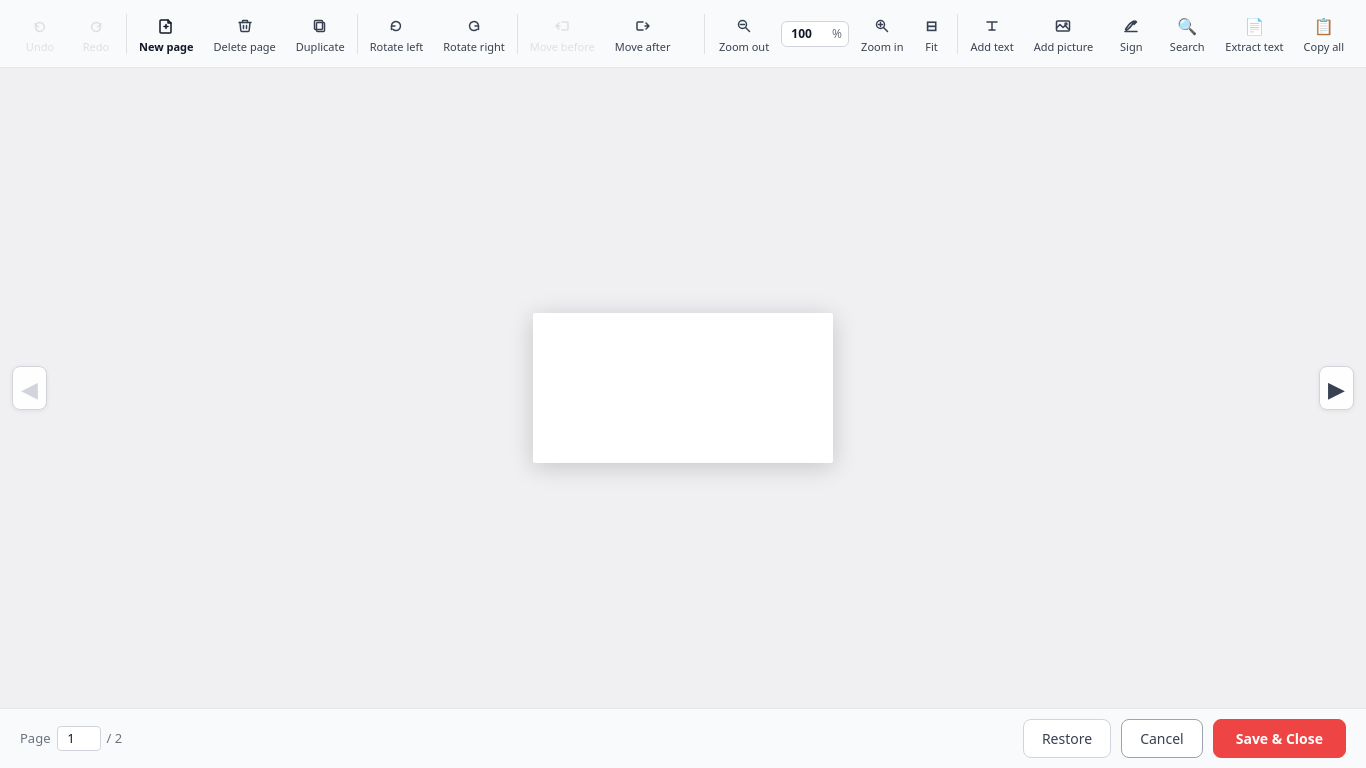
Test: PageEditModal — text layer integration › shows the scanned-PDF info banner when selecting on a text-less page
Expected: the text "no selectable text" is not shown
Press the mouse on the element with test id "page-surface" at (683, 388), box [533,313,833,463]
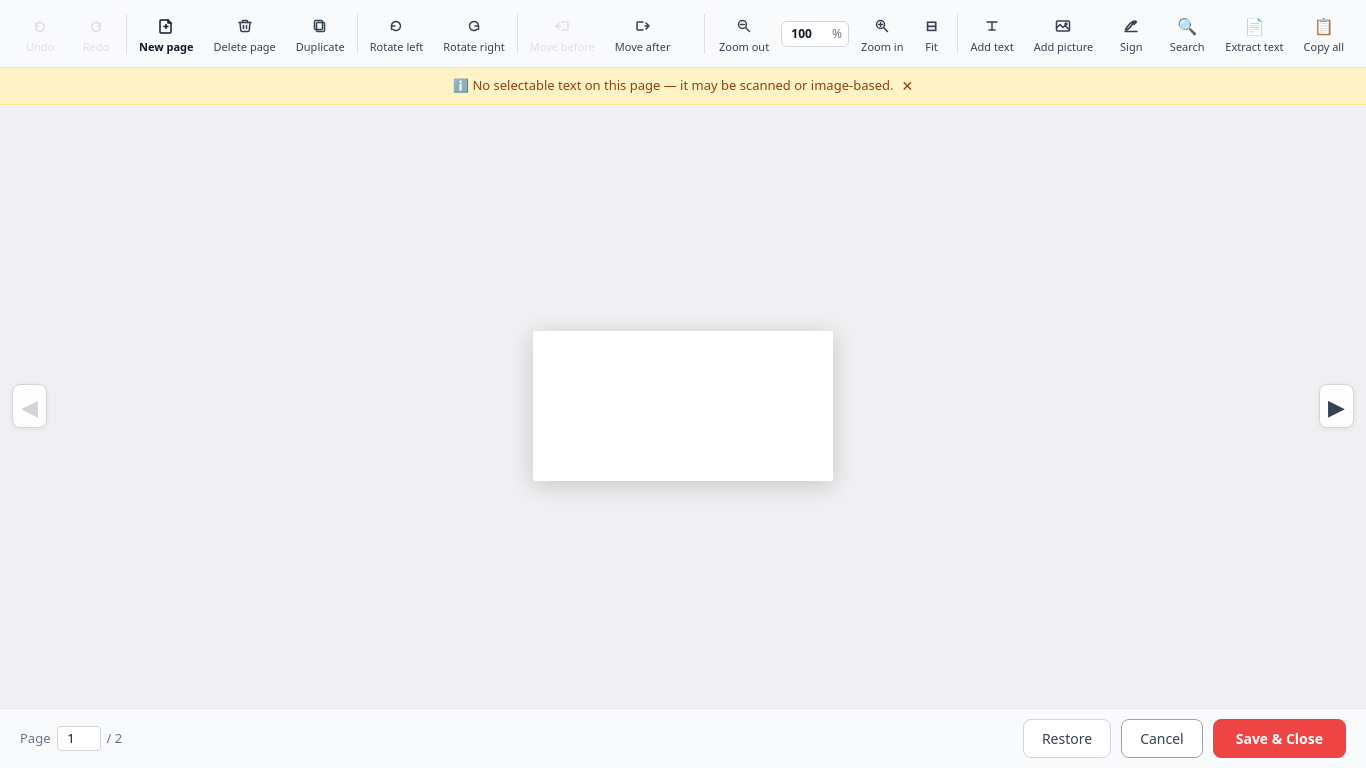
Expected: the text "No selectable text" is shown, [472,76,894,94]
